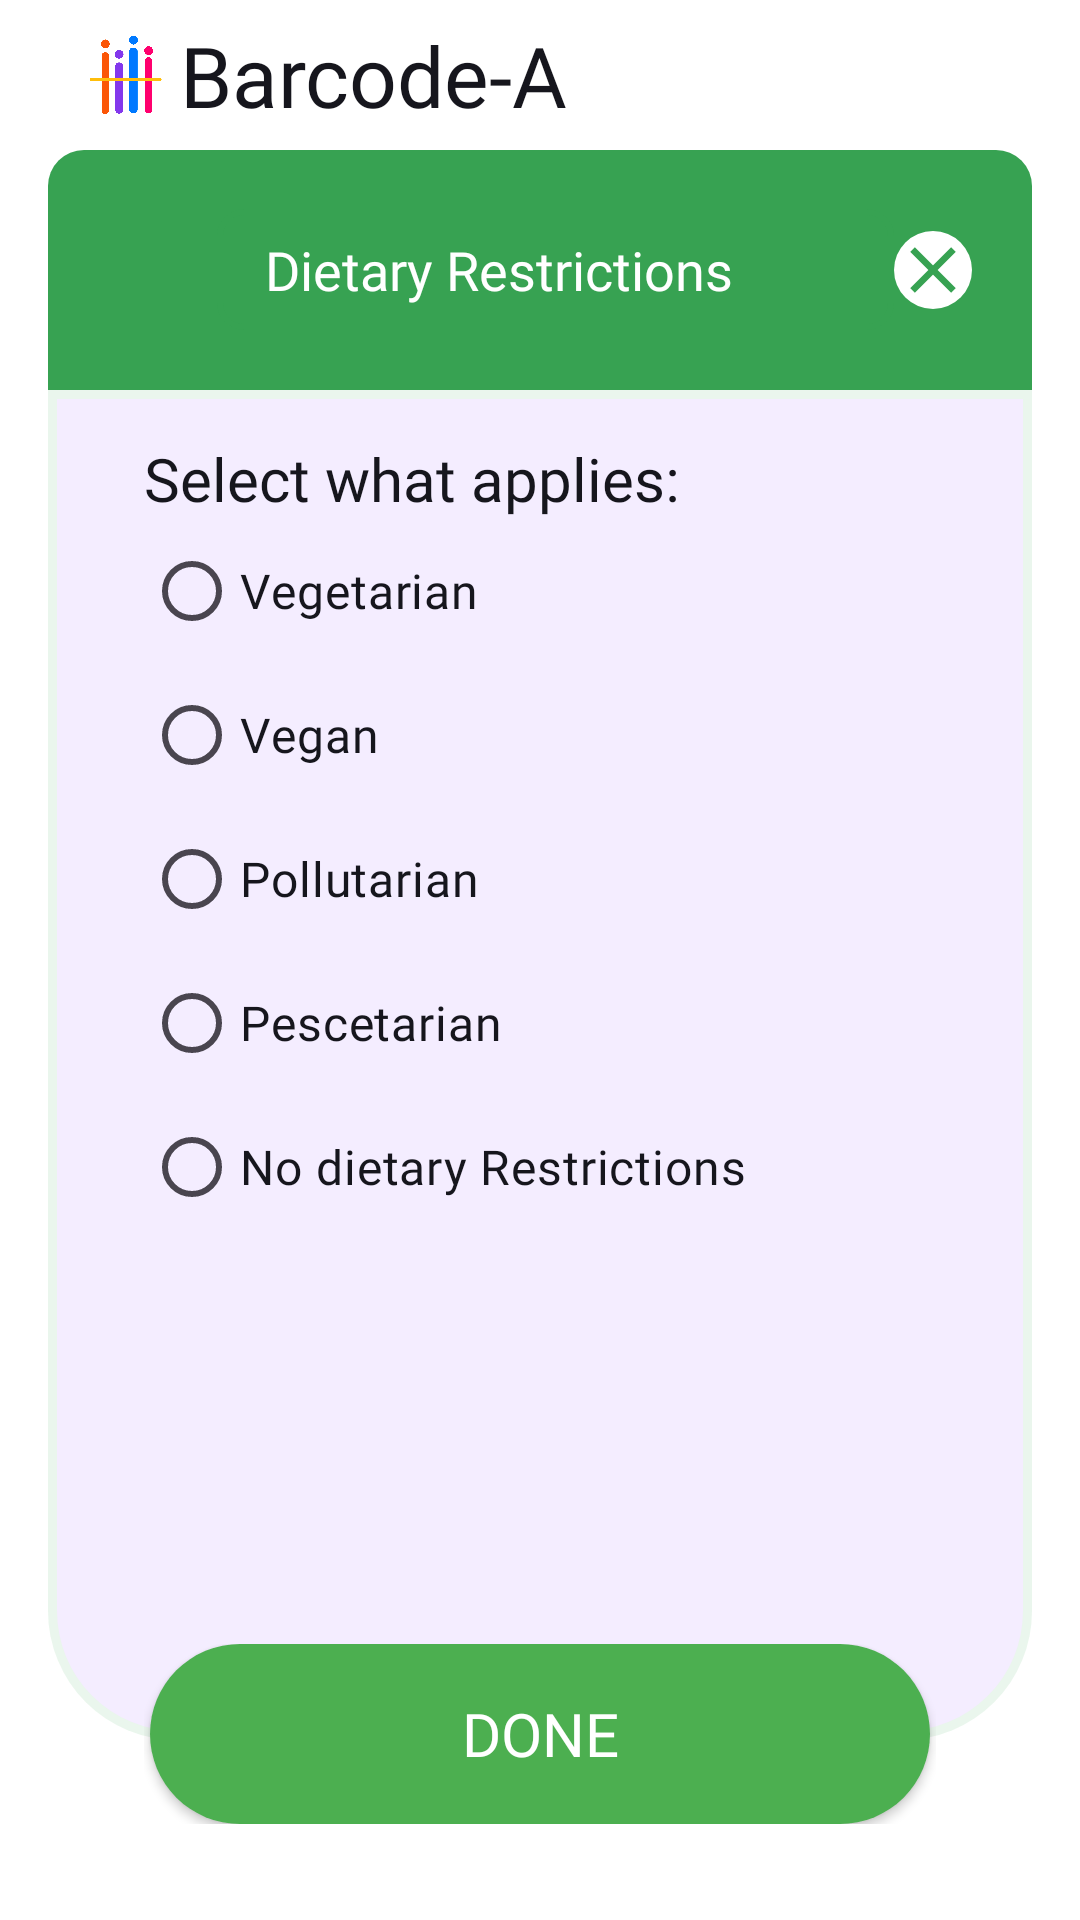

Named icons in this screenshot (1080w x 1920h) and their centers, [x,y]:
close: [933,270]
